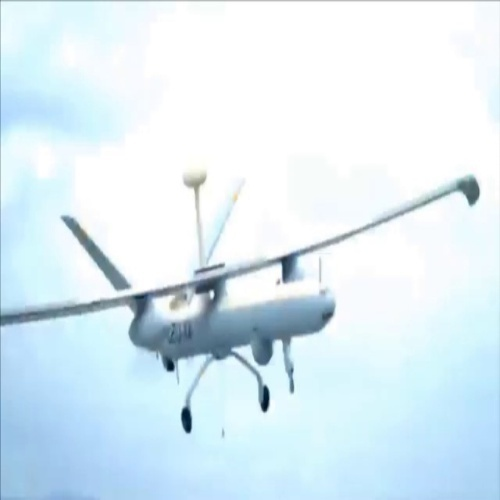uav: (7, 166, 486, 434)
